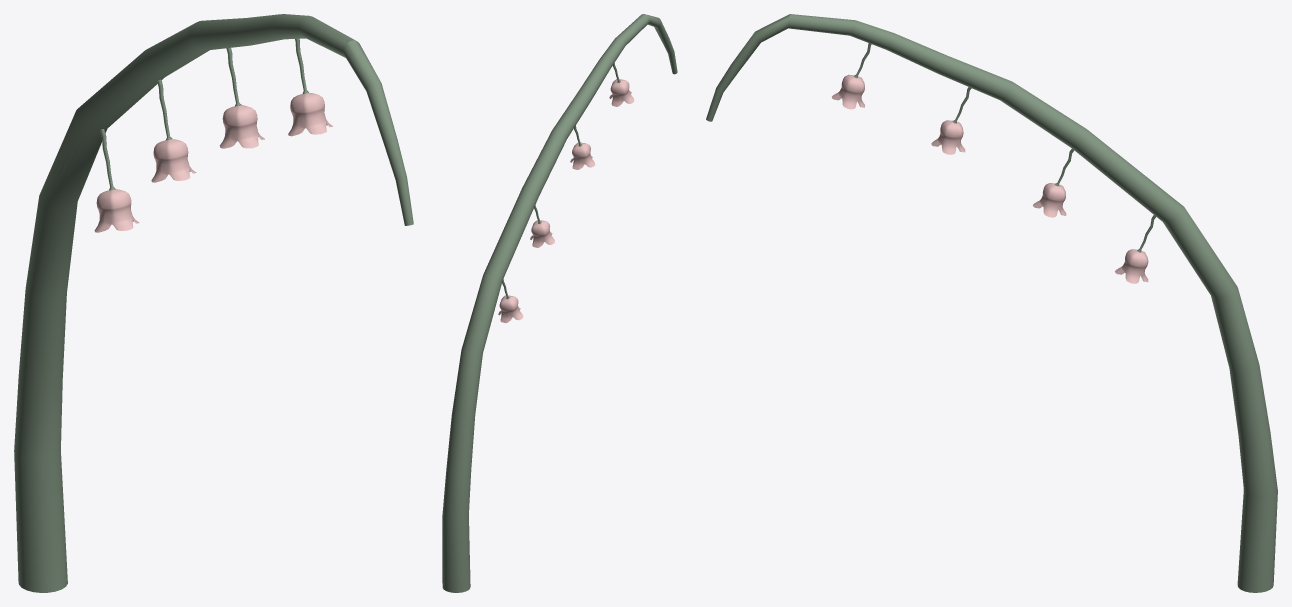
File: lily4flower.fbx
The picture shows the model from 3 angles, left to right: view 1: azimuth 30°, elevation 25°; view 2: azimuth 150°, elevation 25°; view 3: azimuth 270°, elevation 25°; orthographic projection. The views are drawn at different scales.
Visible parts, largest first — view 1: polySurface2, polySurface1, polySurface5, polySurface8, polySurface7; view 2: polySurface2, polySurface8, polySurface7, polySurface5, polySurface1; view 3: polySurface2, polySurface1, polySurface7, polySurface8, polySurface5.
Boxes of the visible parts, left/top/right/bottom form: polySurface2: left=14, top=14, right=413, bottom=592; polySurface1: left=219, top=105, right=264, bottom=148; polySurface5: left=151, top=139, right=196, bottom=182; polySurface8: left=94, top=189, right=139, bottom=232; polySurface7: left=288, top=93, right=332, bottom=136; polySurface2: left=442, top=14, right=677, bottom=592; polySurface8: left=498, top=295, right=523, bottom=323; polySurface7: left=609, top=79, right=634, bottom=106; polySurface5: left=530, top=220, right=554, bottom=247; polySurface1: left=570, top=142, right=595, bottom=169; polySurface2: left=706, top=14, right=1277, bottom=592; polySurface1: left=931, top=120, right=965, bottom=154; polySurface7: left=832, top=74, right=864, bottom=109; polySurface8: left=1115, top=249, right=1148, bottom=283; polySurface5: left=1033, top=183, right=1066, bottom=217.
Size of the model in its own units: 0.2505 by 3.4 by 3.11.
